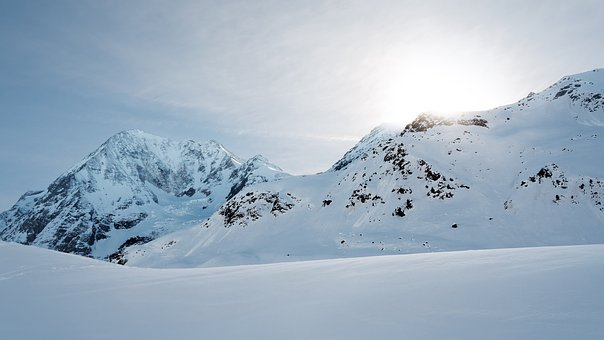mountain: (56, 124, 604, 262)
sky: (1, 3, 604, 127)
